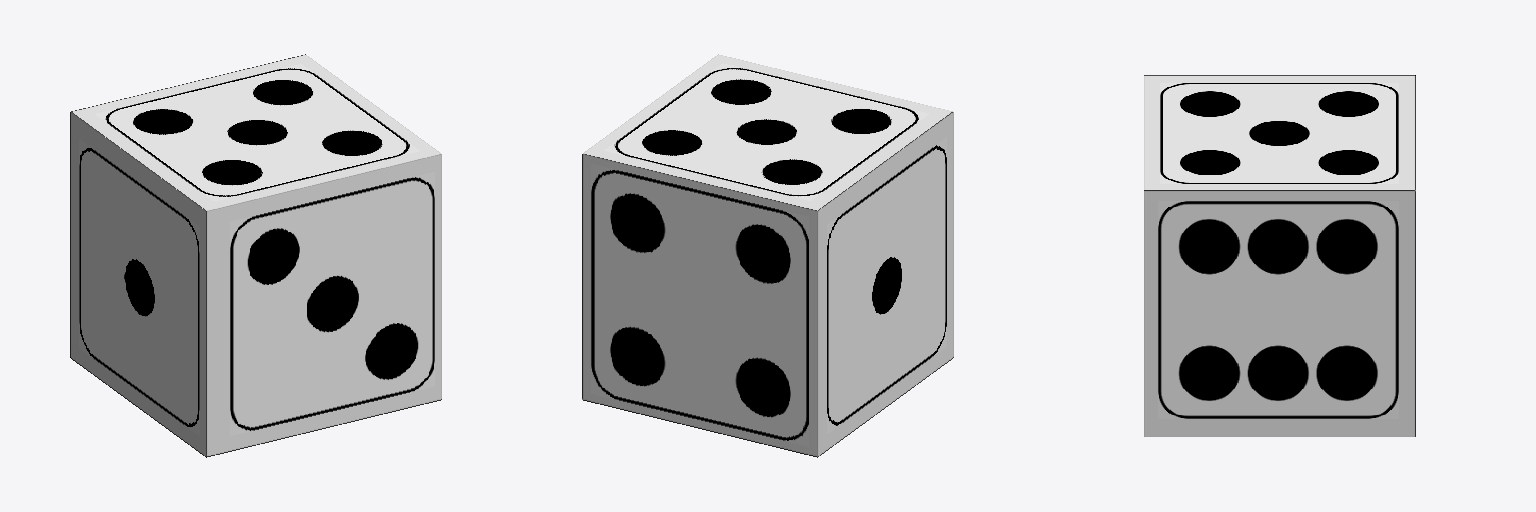
The picture shows the model from 3 angles: view 1: azimuth 30°, elevation 25°; view 2: azimuth 150°, elevation 25°; view 3: azimuth 270°, elevation 25°; orthographic projection.
Visible parts, largest first — view 1: Cube; view 2: Cube; view 3: Cube.
Part boxes in pixels (bbox=[...]): Cube: bbox=[70, 54, 441, 457]; Cube: bbox=[582, 54, 953, 457]; Cube: bbox=[1144, 75, 1415, 436].
Size of the model in its own units: 2 by 2 by 2.
Materials: 1 (1 with a texture image).